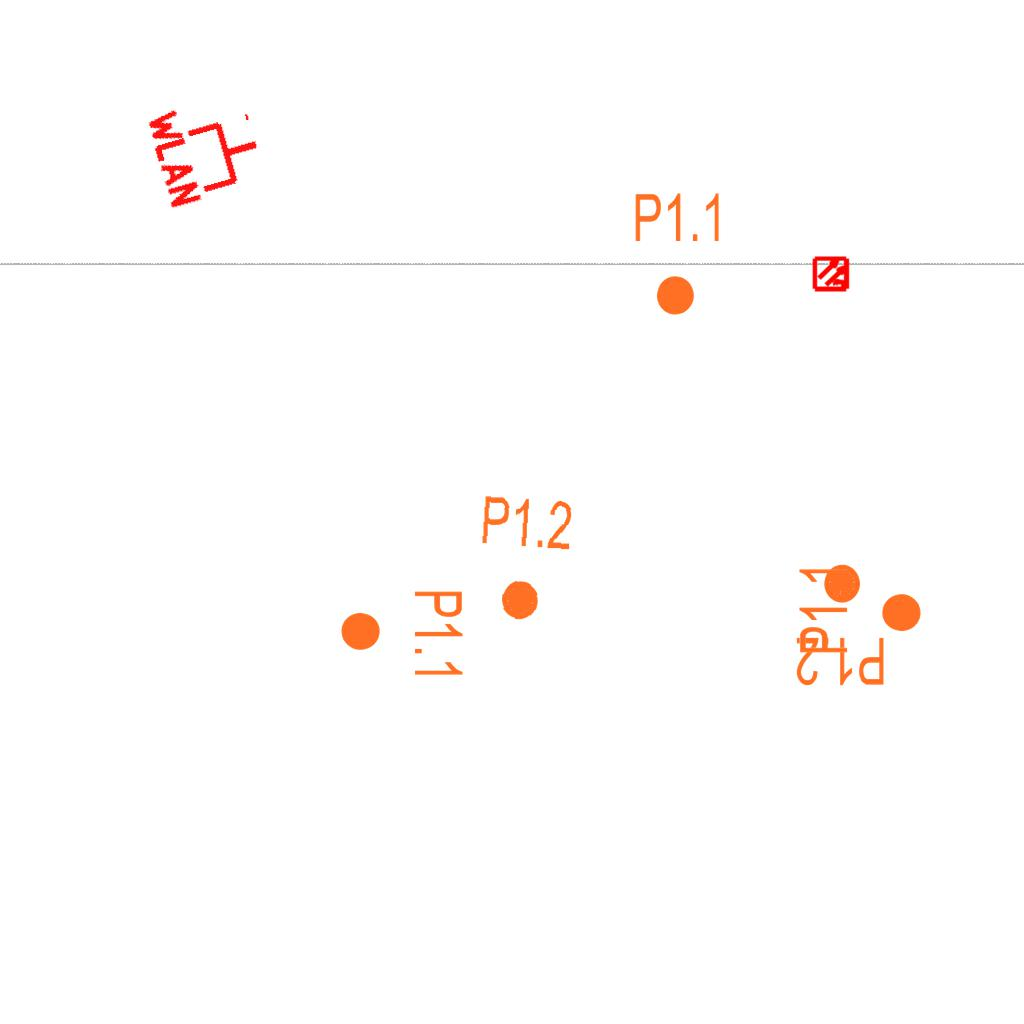Downlight_LED_Einbauleuchten_Flur: (473, 491, 576, 627), (632, 190, 725, 318), (794, 561, 887, 689), (338, 588, 466, 681), (796, 563, 924, 656)
OT_Multisensormelder_(Kombination_RMO_WMD): (804, 246, 860, 302)
WLAN: (142, 84, 273, 214)
